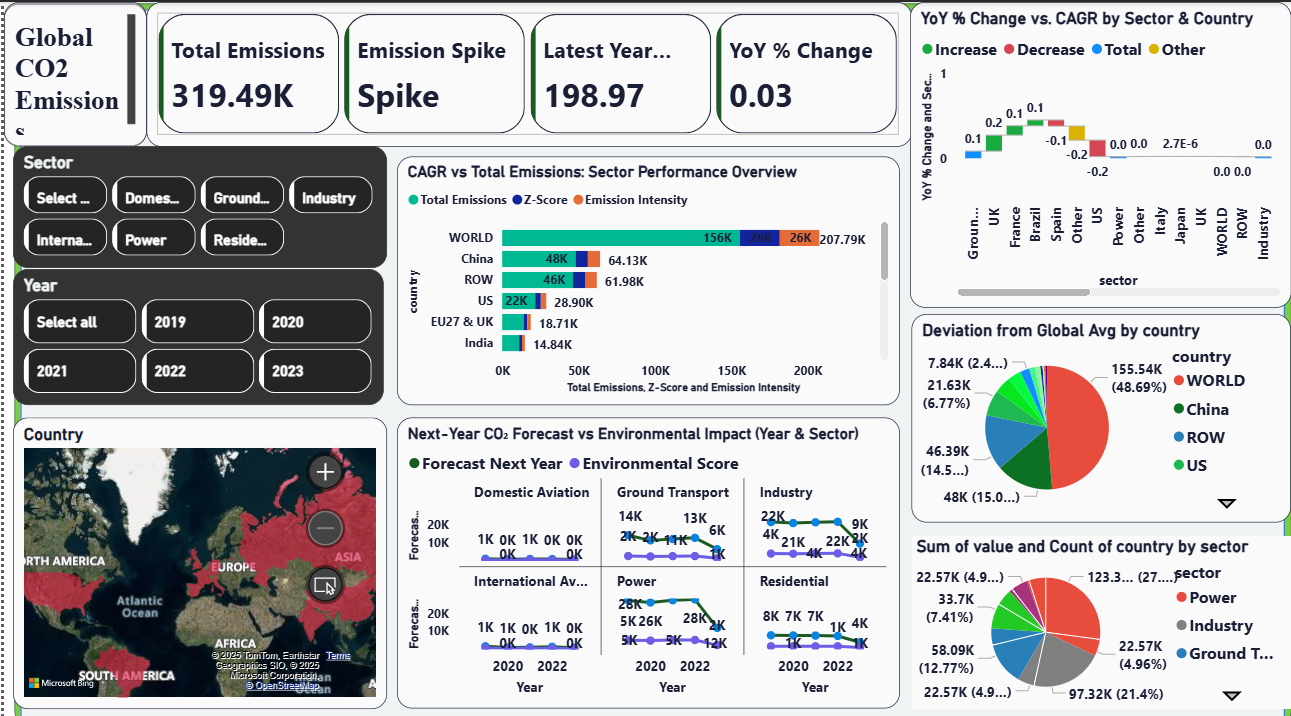

The page's visual inventory and layout, read from the dashboard file:
{"tool":"powerbi","page":{"name":"Page 1","canvas":[1280,720],"ordinal":0},"visuals":[{"type":"shape","box":[10.1,2,1269.9,719],"z":0},{"type":"cardVisual","fields":{"Data":["dataset.Total Emissions","dataset.Emission Spike","dataset.Latest Year Emissions","dataset.YoY % Change"]},"box":[141.8,0,761.5,143.8],"z":1000},{"type":"lineChart","title":"Next-Year CO₂ Forecast vs Environmental Impact (Year & Sector)","fields":{"Category":["dataset.date.Variation.Date Hierarchy.Year","dataset.date.Variation.Date Hierarchy.Quarter","dataset.date.Variation.Date Hierarchy.Month","dataset.date.Variation.Date Hierarchy.Day"],"Y":["dataset.Forecast Next Year","dataset.Environmental Score"],"Rows":["dataset.sector"]},"box":[390.9,413.2,500.3,289.6],"z":2000},{"type":"filledMap","title":"Country","fields":{"Category":["dataset.country"]},"box":[9.5,412.7,371.7,289.8],"z":3000},{"type":"barChart","title":"CAGR vs Total Emissions: Sector Performance Overview","fields":{"Y":["dataset.Total Emissions","dataset.Z-Score","dataset.Emission Intensity"],"Category":["dataset.country"]},"box":[390.9,153.9,500.3,247.1],"z":4000},{"type":"advancedSlicerVisual","fields":{"Values":["dataset.date.Variation.Date Hierarchy.Year"]},"box":[9.5,266.2,368.6,135.5],"z":5000},{"type":"advancedSlicerVisual","title":"Sector","fields":{"Values":["dataset.sector"]},"box":[9.5,143.3,371.7,121.3],"z":6000},{"type":"waterfallChart","title":"YoY % Change vs. CAGR by Sector & Country","fields":{"Y":["dataset.YoY % Change"],"Category":["dataset.sector"],"Breakdown":["dataset.country"]},"box":[900.9,0,379.6,304],"z":7000},{"type":"pieChart","fields":{"Y":["dataset.Deviation from Global Avg"],"Category":["dataset.country"]},"box":[902.5,310,377.5,207.5],"z":8000},{"type":"pieChart","fields":{"Category":["dataset.sector"],"Y":["Sum(dataset.value)","CountNonNull(dataset.country)"]},"box":[902.5,530.8,378,171.7],"z":9000},{"type":"shape","box":[0,0,141.8,143.3],"z":10000},{"type":"textbox","box":[0,1.6,141.8,141.8],"z":11000}]}

Visuals, with their boxes in screenshot pixels (x1, y1, x2, y2), scaled from the page's 1280x720 canvas onto the 1291x716 screenshot:
shape: detection(10, 2, 1290, 715)
cardVisual - dataset.Total Emissions x dataset.Emission Spike: detection(143, 0, 911, 143)
"Next-Year CO₂ Forecast vs Environmental Impact (Year & Sector)" lineChart: detection(394, 411, 899, 699)
"Country" filledMap: detection(10, 410, 384, 699)
"CAGR vs Total Emissions: Sector Performance Overview" barChart: detection(394, 153, 899, 399)
advancedSlicerVisual - dataset.date.Variation.Date Hierarchy.Year: detection(10, 265, 381, 399)
"Sector" advancedSlicerVisual: detection(10, 143, 384, 263)
"YoY % Change vs. CAGR by Sector & Country" waterfallChart: detection(909, 0, 1290, 302)
pieChart - dataset.Deviation from Global Avg x dataset.country: detection(910, 308, 1290, 515)
pieChart - dataset.sector x Sum(dataset.value): detection(910, 528, 1290, 699)
shape: detection(0, 0, 143, 143)
textbox: detection(0, 2, 143, 143)
